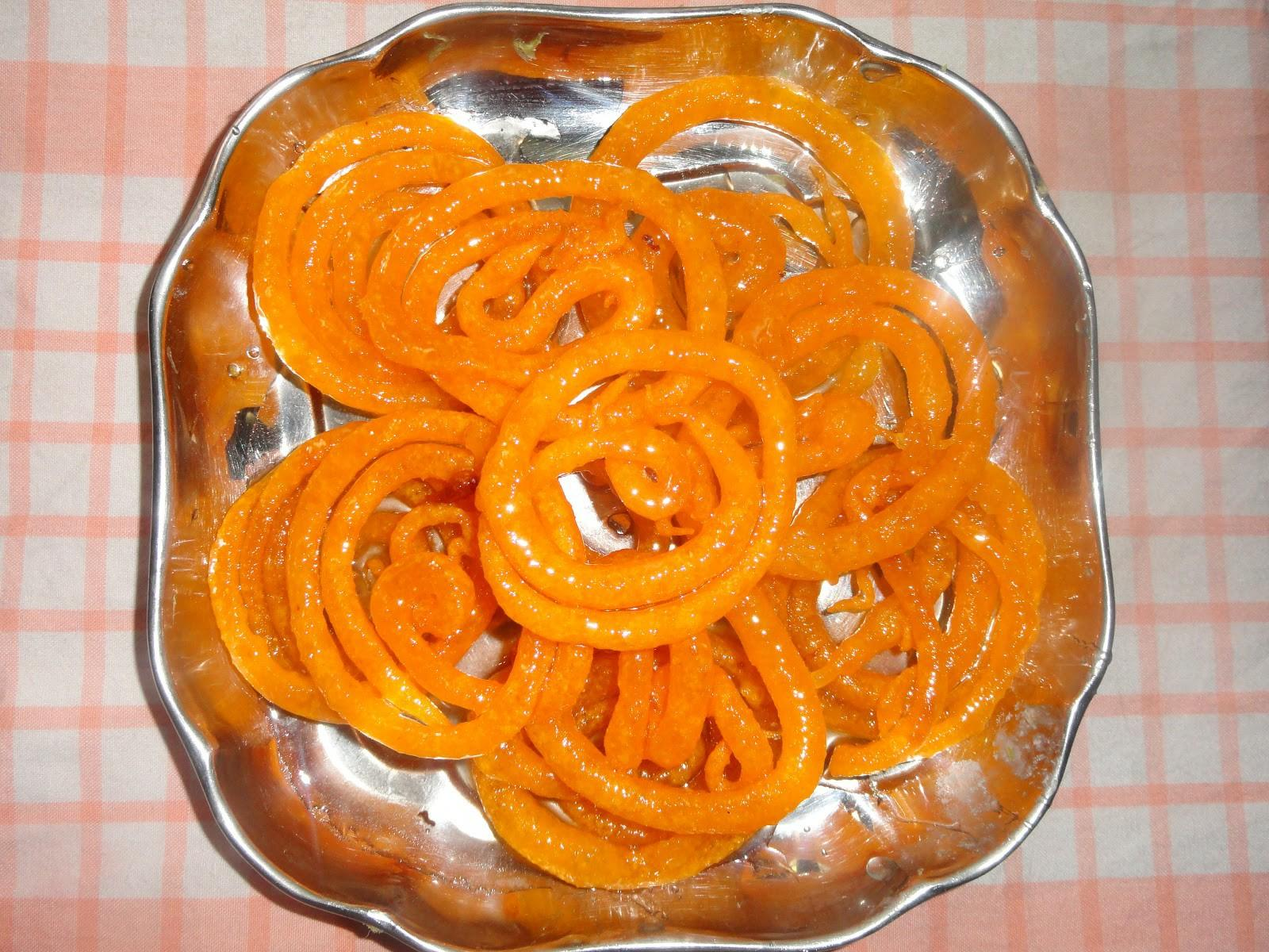Jalebi: (211, 80, 1046, 889)
